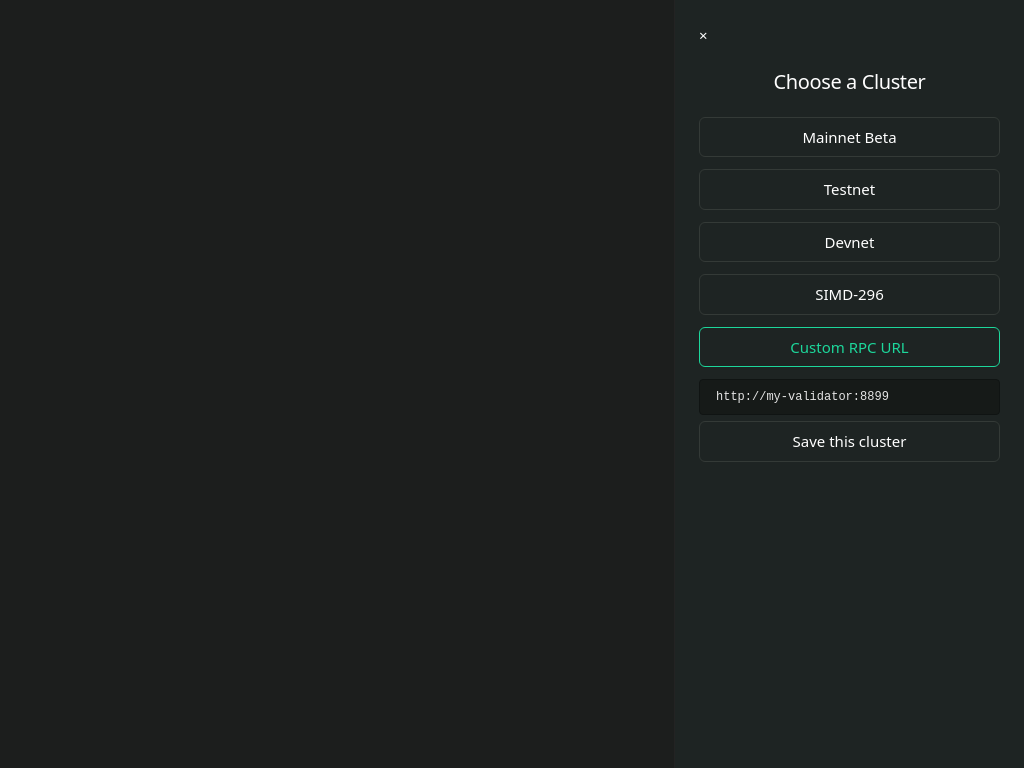
Test: ClusterModal › should hide save form and clear name on cancel
Click the button with test id "save-custom-cluster-btn".
click(850, 441)  # box [699,421,1000,462]
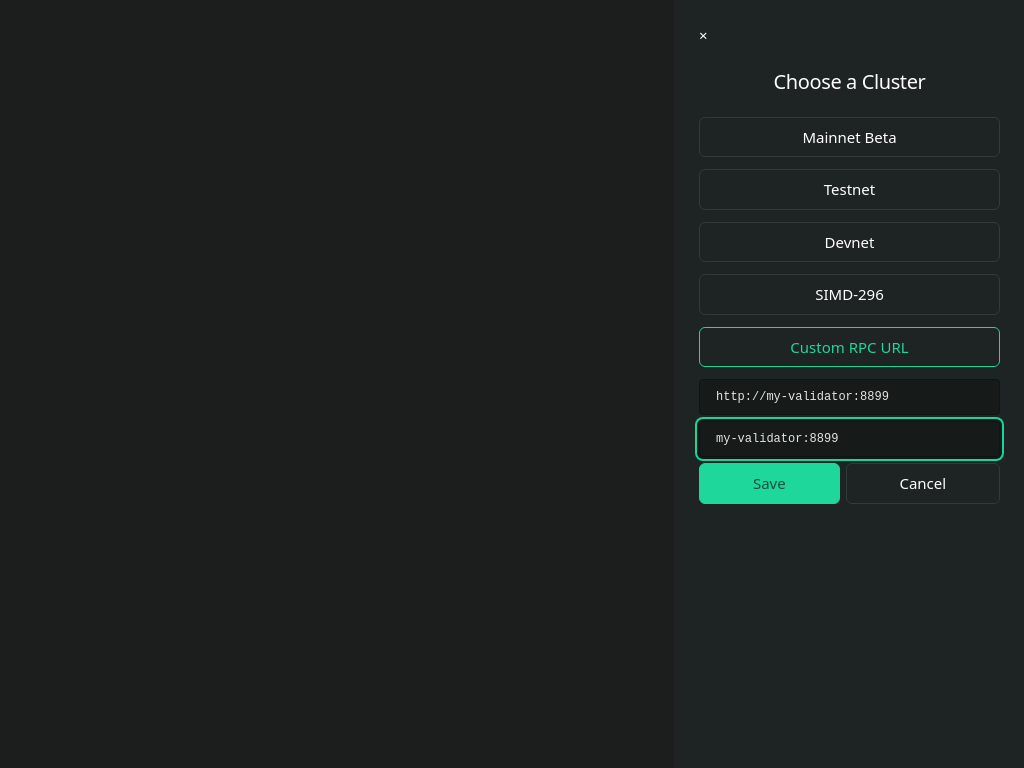
Replace the text in the field with test id "cluster-name-input" with "Draft" at (850, 439), box [699,421,1000,457]
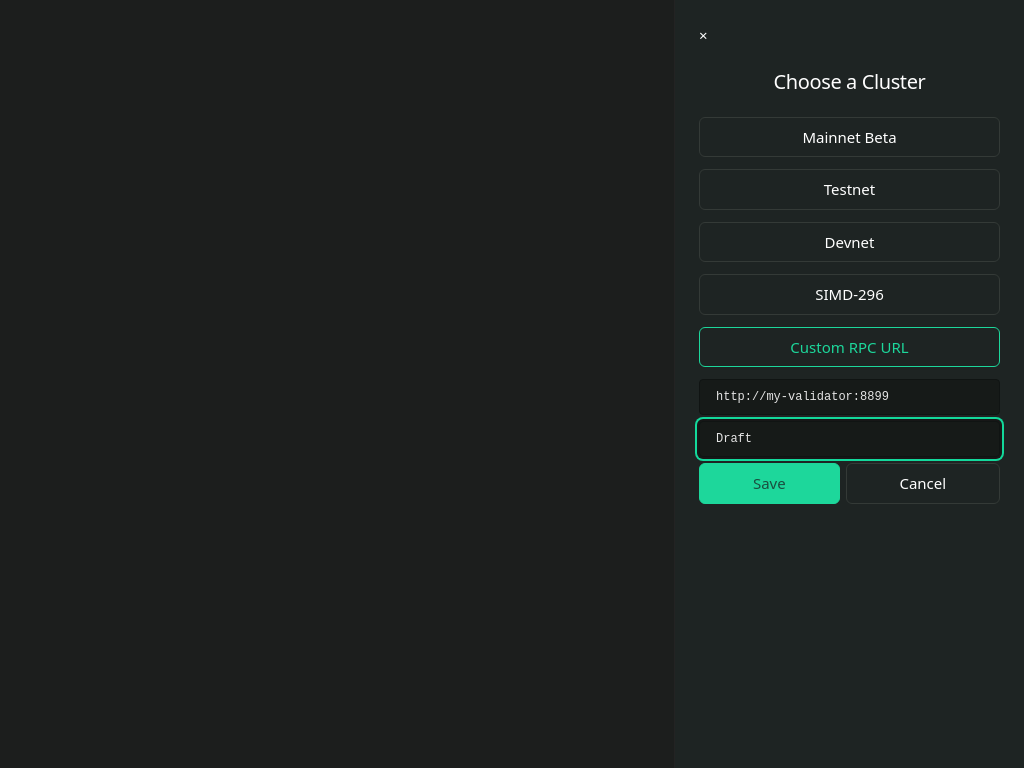
Click the button "Cancel".
click(923, 483)  # box [846,463,1000,504]
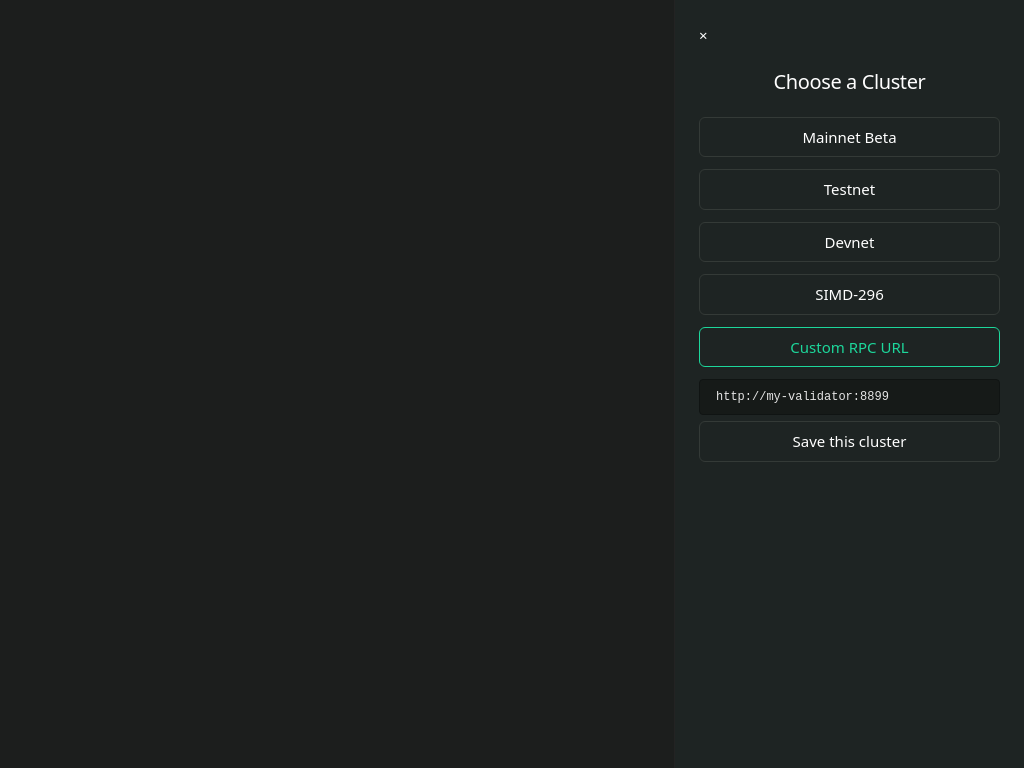
Expected: the element with test id "save-cluster-form" is gone
Expected: the button with test id "save-custom-cluster-btn" is shown, [699,421,1000,462]
